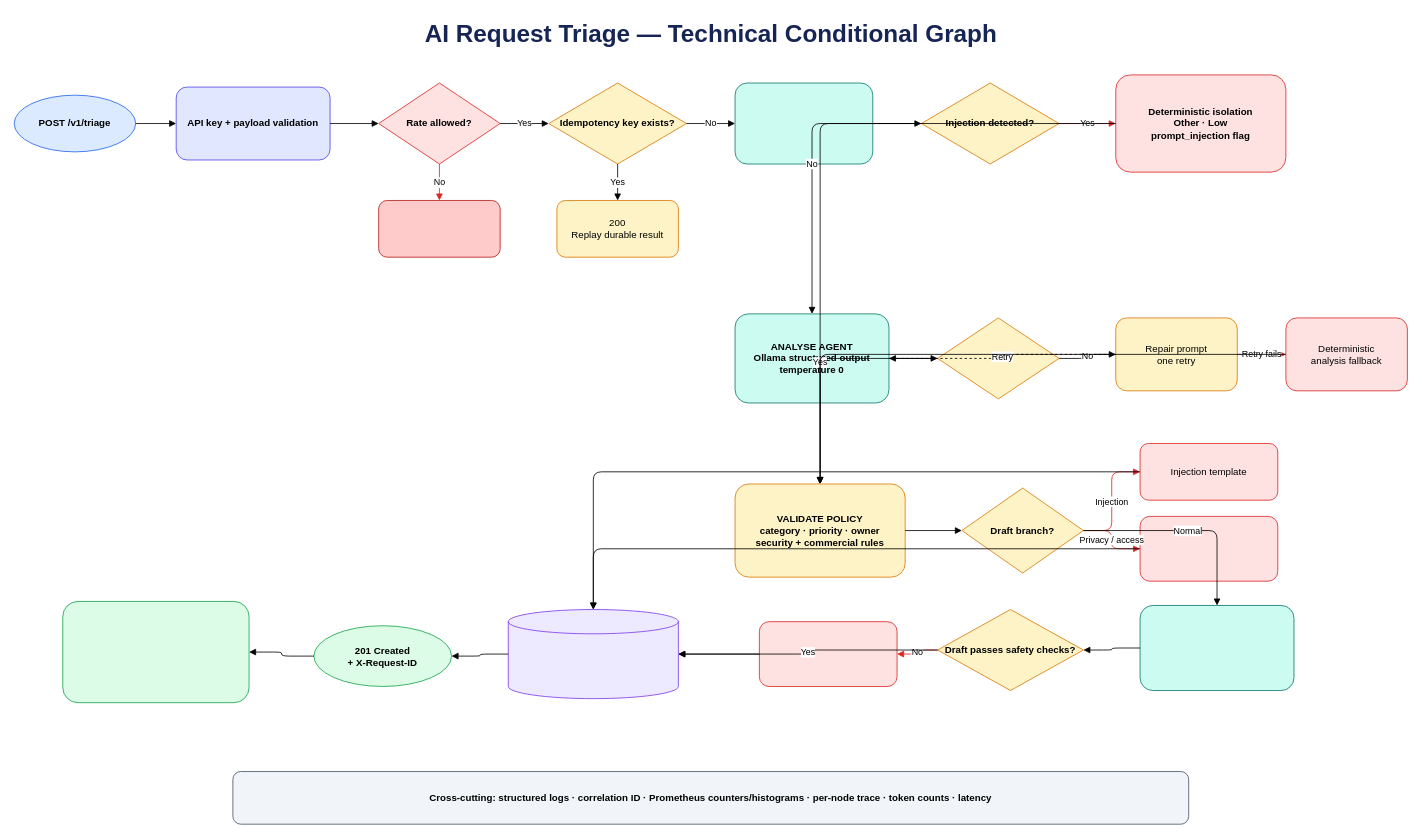
Image size: 1422x838. Some labels were removed from this diagram. The box of each missing label's shape, as (x1, y1, x2, y2) in pixels:
429 Rate limit exceeded: (378, 200, 500, 257)
DRAFT AGENT validated summary only structured response: (1139, 605, 1294, 691)
Human review endpoint approve · correct · reject 409 if already reviewed: (62, 601, 249, 703)
PostgreSQL transaction request · redacted text decision · draft · trace: (507, 609, 678, 699)
Repair once, then safe owner template: (759, 621, 897, 686)
SANITIZE redact PII detect injection: (734, 82, 873, 164)
Schema valid?: (937, 317, 1059, 399)
Security incident safe template: (1139, 516, 1278, 581)
